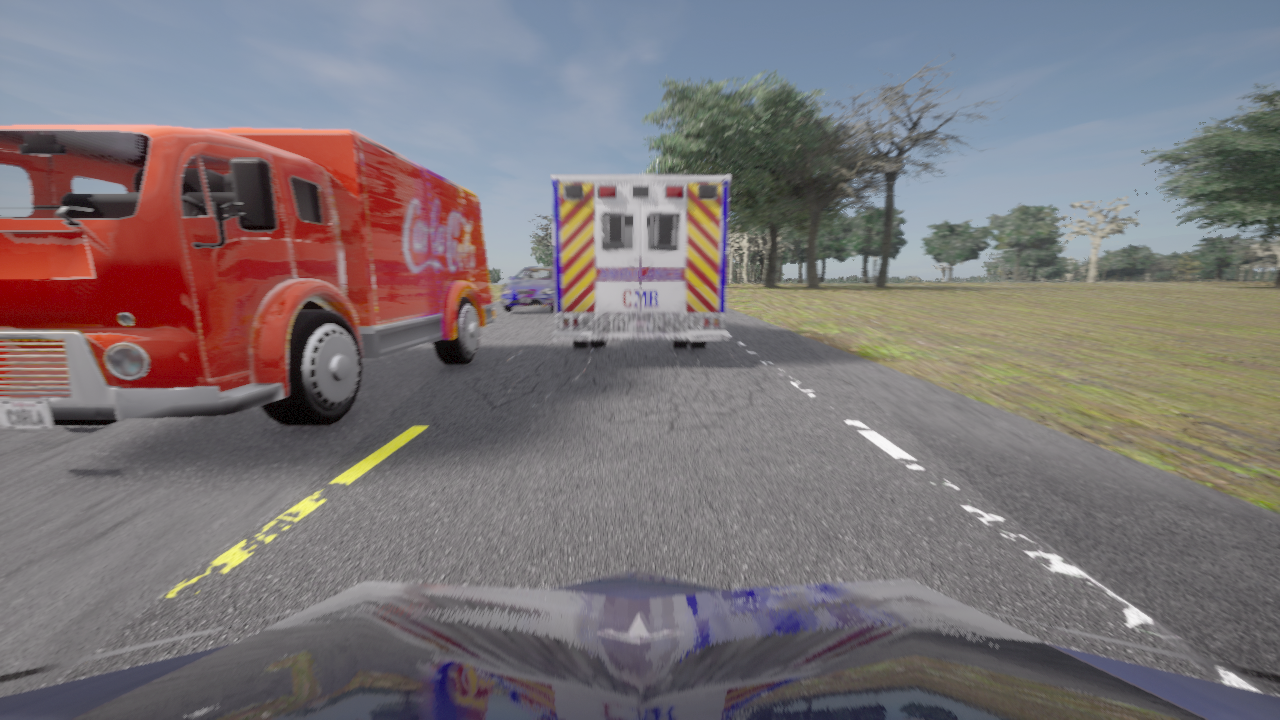cyclist: (0, 569, 1279, 719), (0, 124, 495, 430), (551, 175, 729, 349), (500, 267, 554, 312)
